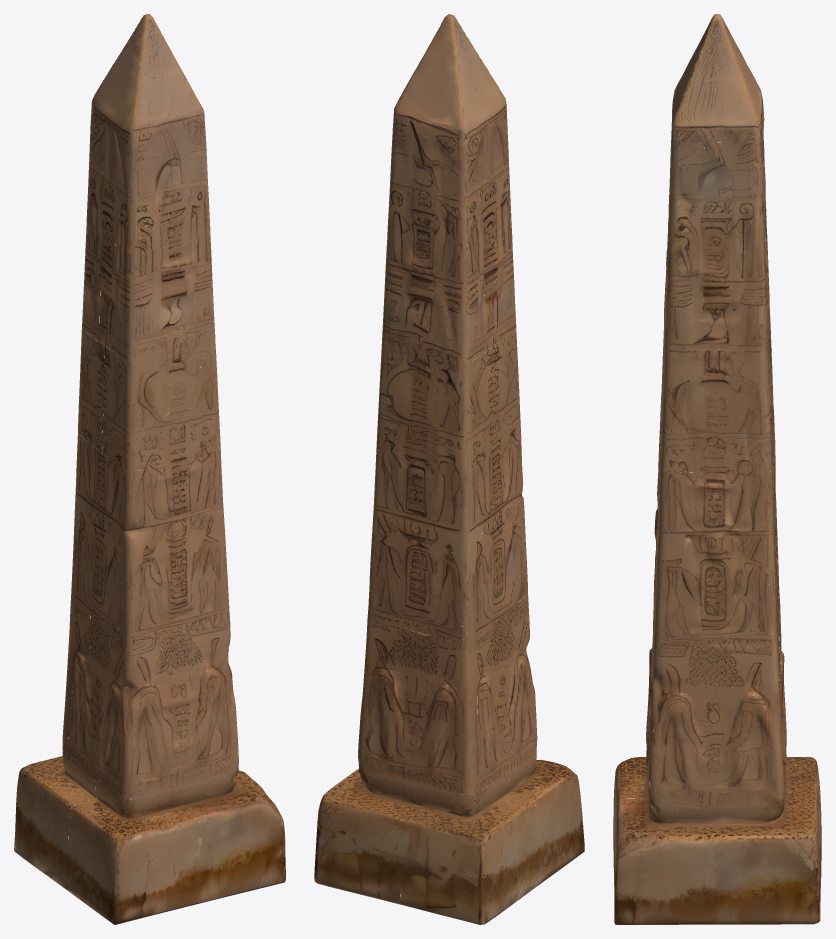
File: Main_Obelisk_1.glb
3 views of the same model, side by side, from view 1: azimuth 30°, elevation 25°; view 2: azimuth 150°, elevation 25°; view 3: azimuth 270°, elevation 25° (orthographic).
Visible parts, largest first — view 1: tripo_node_02898877-bb4f-413e-8bbe-0e437ba3aa30; view 2: tripo_node_02898877-bb4f-413e-8bbe-0e437ba3aa30; view 3: tripo_node_02898877-bb4f-413e-8bbe-0e437ba3aa30.
Boxes of the visible parts, left/top/right/bottom form: tripo_node_02898877-bb4f-413e-8bbe-0e437ba3aa30: left=14, top=14, right=285, bottom=924; tripo_node_02898877-bb4f-413e-8bbe-0e437ba3aa30: left=314, top=14, right=584, bottom=924; tripo_node_02898877-bb4f-413e-8bbe-0e437ba3aa30: left=613, top=14, right=821, bottom=924.
Bounding box in the file's own units: 0.2129 × 1 × 0.2178.
1 material, 1 textured.
